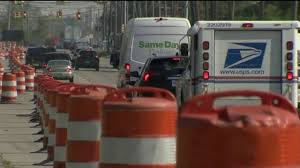barrel: (177, 94, 297, 168), (103, 93, 176, 168), (69, 97, 108, 168), (56, 93, 71, 168), (49, 95, 62, 163), (1, 73, 18, 101), (27, 68, 35, 91), (18, 71, 25, 92)
